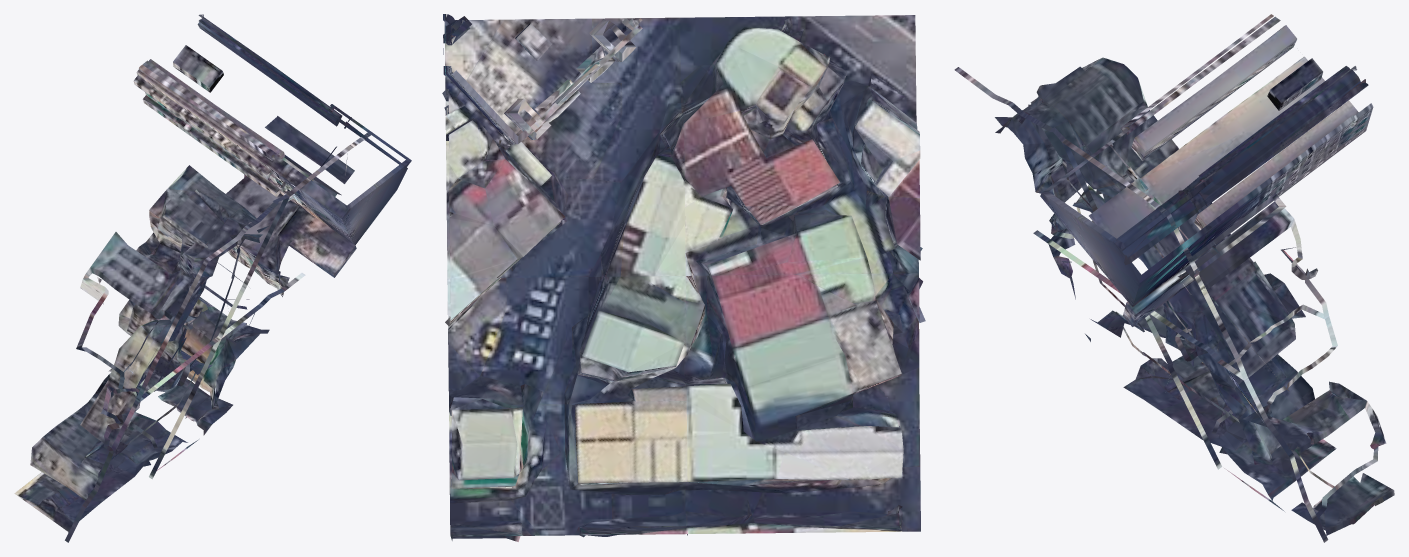
3 views of the same model, side by side, from view 1: azimuth 30°, elevation 25°; view 2: azimuth 150°, elevation 25°; view 3: azimuth 270°, elevation 25° (orthographic). The views are drawn at different scales.
Size of the model in its own units: 85.21 by 87.51 by 75.2.
2 materials, 2 textured.
